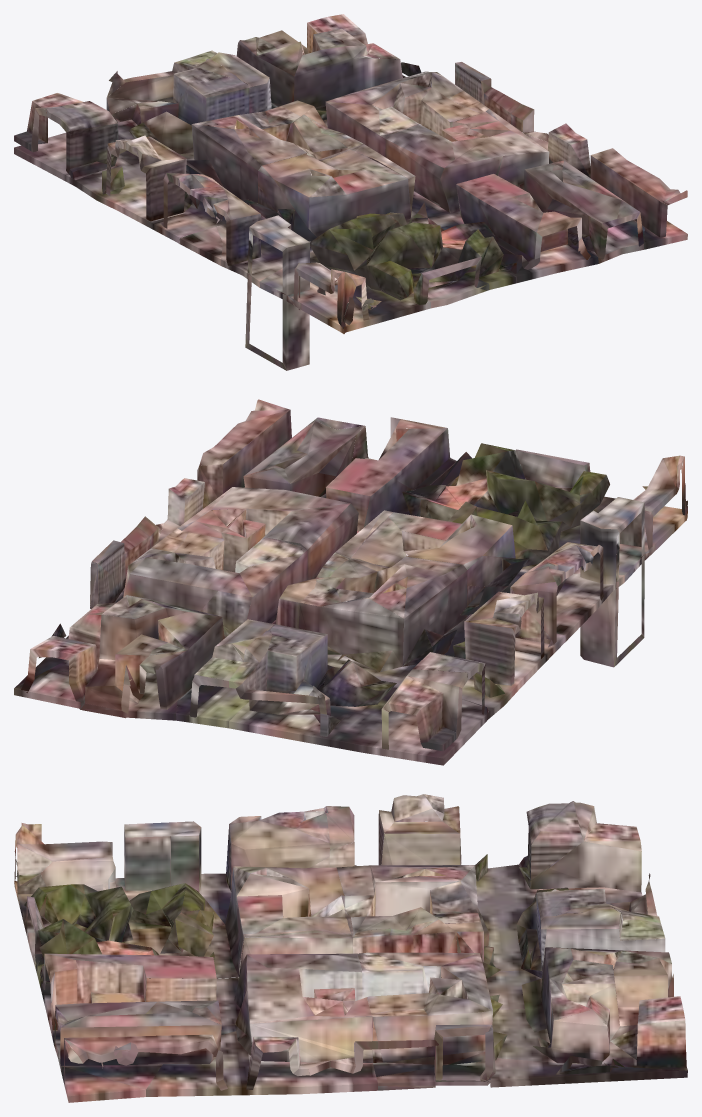
3 views of the same model, one above another, from view 1: azimuth 30°, elevation 25°; view 2: azimuth 150°, elevation 25°; view 3: azimuth 270°, elevation 25° (orthographic). The views are drawn at different scales.
Parts seen in each view (by area): view 1: Mesh_0; view 2: Mesh_0; view 3: Mesh_0.
Boxes of the visible parts, x1=… form: Mesh_0: x1=14, y1=14, x2=687, y2=370; Mesh_0: x1=14, y1=399, x2=687, y2=765; Mesh_0: x1=14, y1=794, x2=687, y2=1102.
Bounding box in the file's own units: 266 × 83.07 × 330.
Materials: 2 (2 with a texture image).
